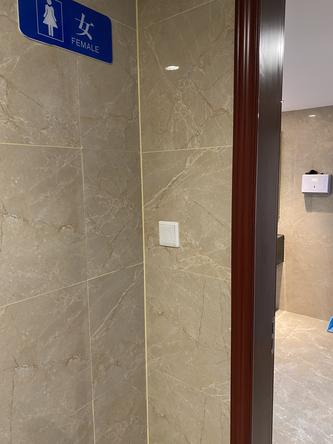switch: (159, 220, 179, 247)
